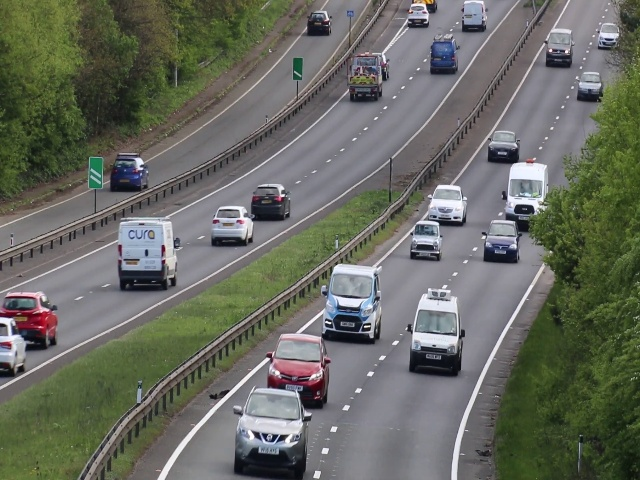car: (238, 386, 309, 472), (111, 216, 180, 289), (267, 329, 328, 409), (410, 289, 463, 376), (324, 260, 380, 342), (1, 289, 55, 348), (504, 163, 545, 226), (210, 204, 254, 247), (249, 180, 293, 220), (346, 54, 384, 100), (428, 181, 466, 226), (486, 218, 522, 263), (406, 220, 445, 261), (1, 318, 28, 375), (110, 152, 150, 190), (484, 127, 523, 164), (428, 37, 462, 75), (546, 26, 575, 69), (574, 66, 606, 102), (458, 1, 491, 33), (595, 21, 621, 53), (306, 7, 333, 37), (405, 1, 430, 28)
